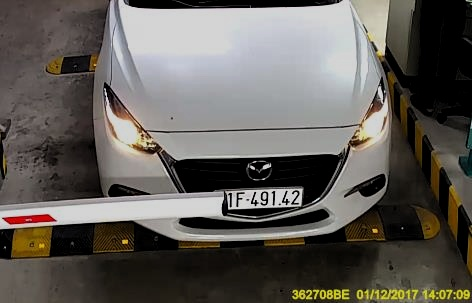plate: (211, 186, 306, 211)
